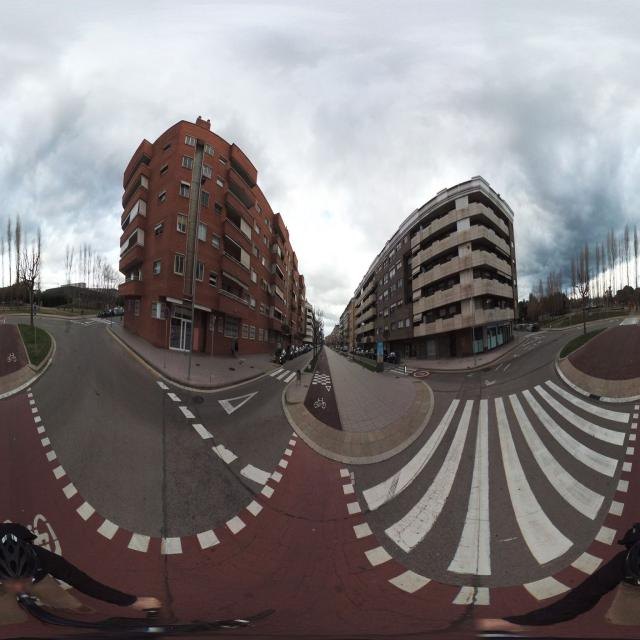forb_stopping: (163, 308, 169, 319), (111, 301, 113, 306)
